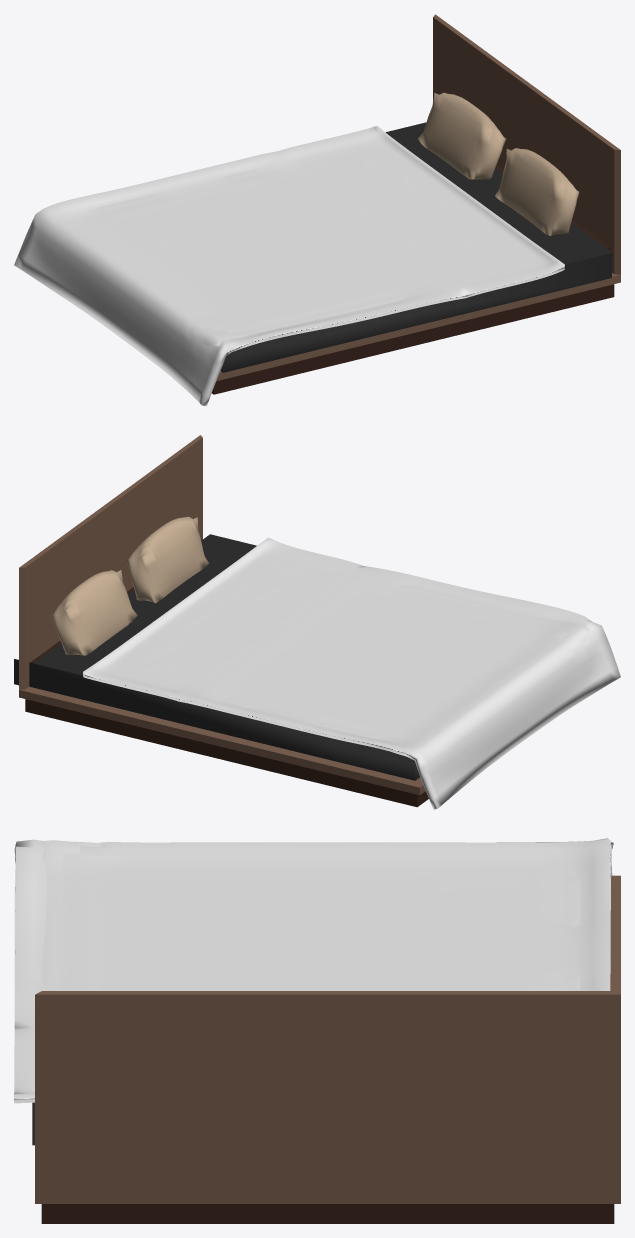
File: Bed.fbx
3 views of the same model, one above another, from view 1: azimuth 30°, elevation 25°; view 2: azimuth 150°, elevation 25°; view 3: azimuth 270°, elevation 25° (orthographic). The views are drawn at different scales.
Parts seen in each view (by area): view 1: Bed_LOD0; view 2: Bed_LOD0; view 3: Bed_LOD0.
Part boxes in pixels (left/top/right/bottom): Bed_LOD0: left=14, top=14, right=620, bottom=406; Bed_LOD0: left=14, top=435, right=620, bottom=809; Bed_LOD0: left=14, top=838, right=620, bottom=1223.
Size of what is drawn, in the model's own units: 602 by 200 by 460.
